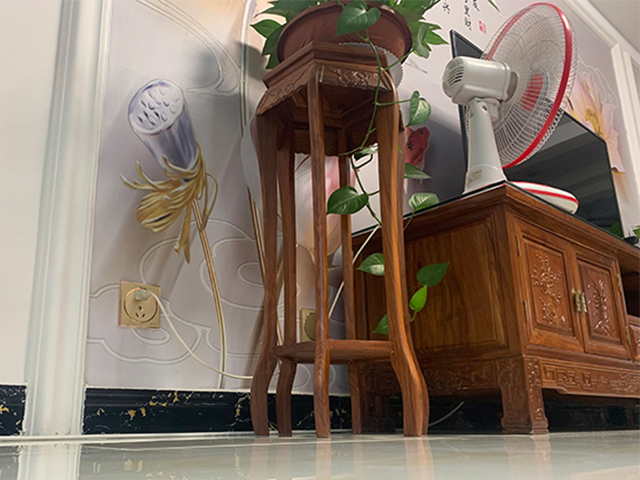cabinet: (344, 179, 640, 437)
wire: (1, 401, 469, 442)
